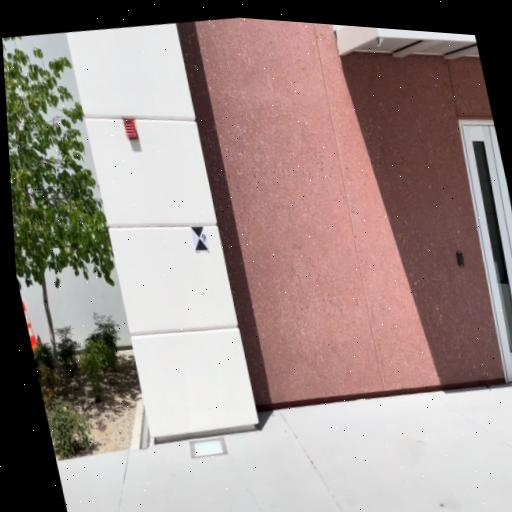target9: (190, 225, 209, 252)
